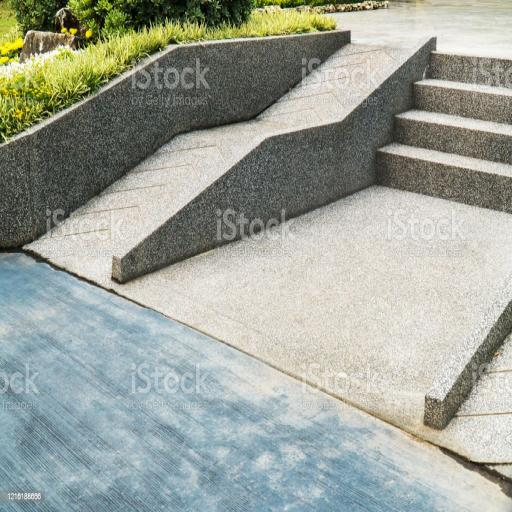ramp: (22, 42, 414, 285)
stairs: (378, 52, 512, 215)
